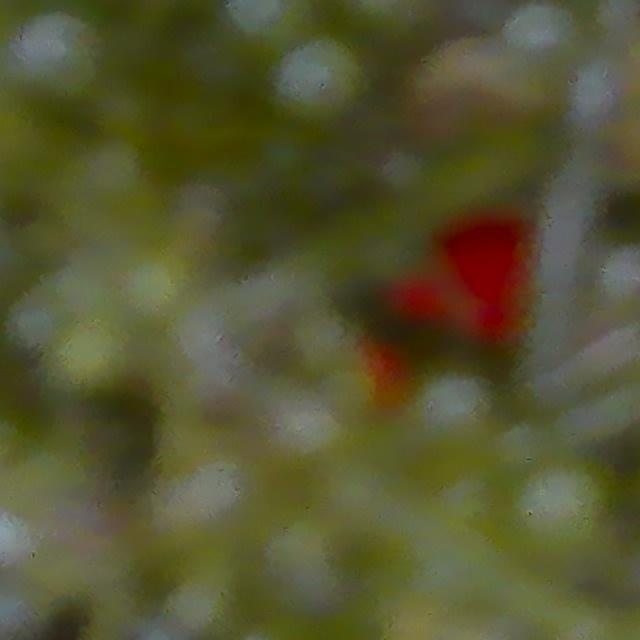SeaGrape: (253, 501, 356, 617), (508, 453, 615, 564), (6, 3, 108, 105), (270, 28, 369, 129), (402, 361, 498, 455), (45, 311, 138, 400), (260, 383, 354, 471), (286, 303, 363, 379), (93, 76, 163, 144), (504, 0, 579, 63), (317, 361, 382, 426), (372, 141, 432, 201), (593, 239, 640, 305)
